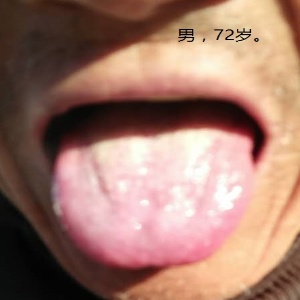st: (48, 139, 256, 267)
